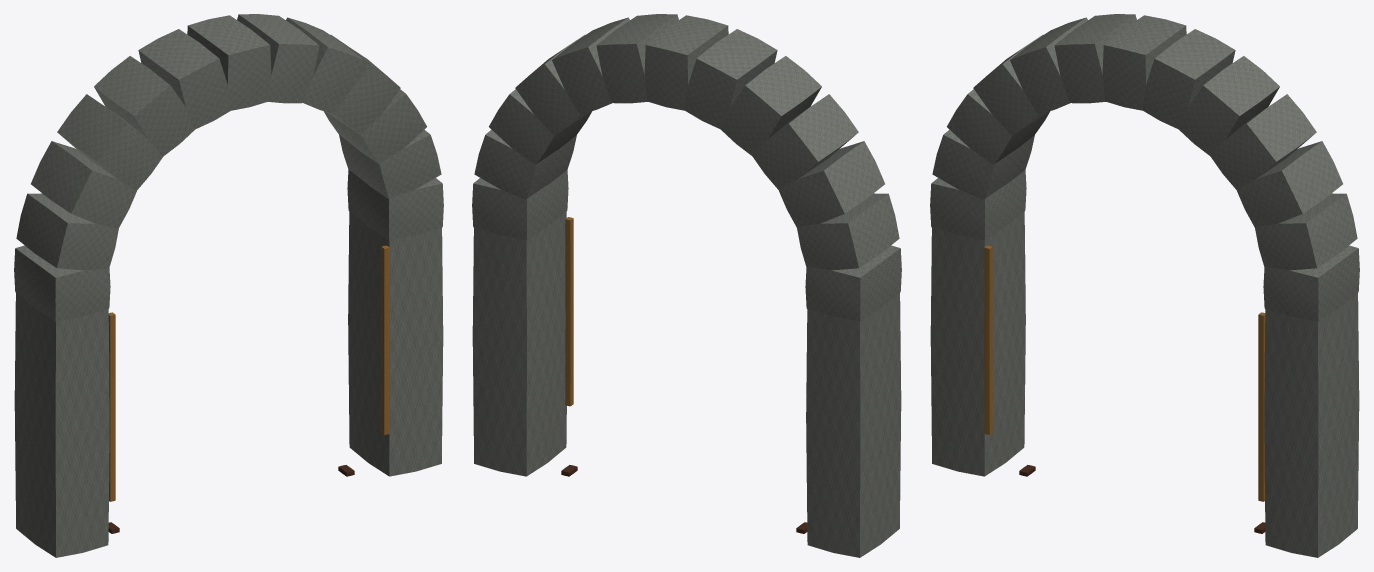
3 renders of one model, left to right at view 1: azimuth 30°, elevation 25°; view 2: azimuth 150°, elevation 25°; view 3: azimuth 330°, elevation 25°, orthographic.
Parts seen in each view (by area): view 1: stone.13, stone.14, stone.8, stone.10, stone.11, stone.9, stone.7, stone.12, stone.6, stone.0, stone.5, stone.1 (+5 smaller); view 2: stone.13, stone.14, stone.8, stone.10, stone.11, stone.9, stone.7, stone.12, stone.6, stone.0, stone.5, stone.1 (+4 smaller); view 3: stone.14, stone.13, stone.4, stone.2, stone.1, stone.3, stone.5, stone.0, stone.6, stone.12, stone.7, stone.11 (+5 smaller).
Boxes of the visible parts, box(x1,y1,x2,y2) form: stone.13: box(14, 293, 109, 557); stone.14: box(348, 211, 443, 476); stone.8: box(94, 56, 194, 156); stone.10: box(31, 141, 137, 228); stone.11: box(16, 193, 118, 270); stone.9: box(57, 94, 163, 189); stone.7: box(138, 29, 230, 129); stone.12: box(14, 245, 110, 321); stone.6: box(187, 15, 271, 110); stone.0: box(347, 169, 443, 240); stone.5: box(237, 14, 319, 103); stone.1: box(339, 129, 441, 198); stone.13: box(806, 293, 901, 557); stone.14: box(472, 211, 566, 476); stone.8: box(720, 56, 821, 156); stone.10: box(778, 141, 884, 227); stone.11: box(797, 193, 899, 270); stone.9: box(752, 94, 858, 189); stone.7: box(684, 29, 777, 129); stone.12: box(805, 245, 901, 321); stone.6: box(644, 15, 728, 110); stone.0: box(472, 170, 568, 240); stone.5: box(596, 14, 678, 103); stone.1: box(474, 129, 576, 199); stone.14: box(1264, 293, 1359, 557); stone.13: box(930, 211, 1025, 476); stone.4: box(1178, 56, 1279, 156); stone.2: box(1236, 141, 1342, 227); stone.1: box(1255, 193, 1357, 270); stone.3: box(1210, 94, 1316, 189); stone.5: box(1142, 29, 1235, 129); stone.0: box(1263, 245, 1359, 321); stone.6: box(1102, 15, 1186, 110); stone.12: box(930, 170, 1026, 240); stone.7: box(1054, 14, 1136, 103); stone.11: box(932, 129, 1034, 199).
Bounding box in the file's own units: 2.35 × 2.69 × 0.45.
3 materials, 3 textured.
